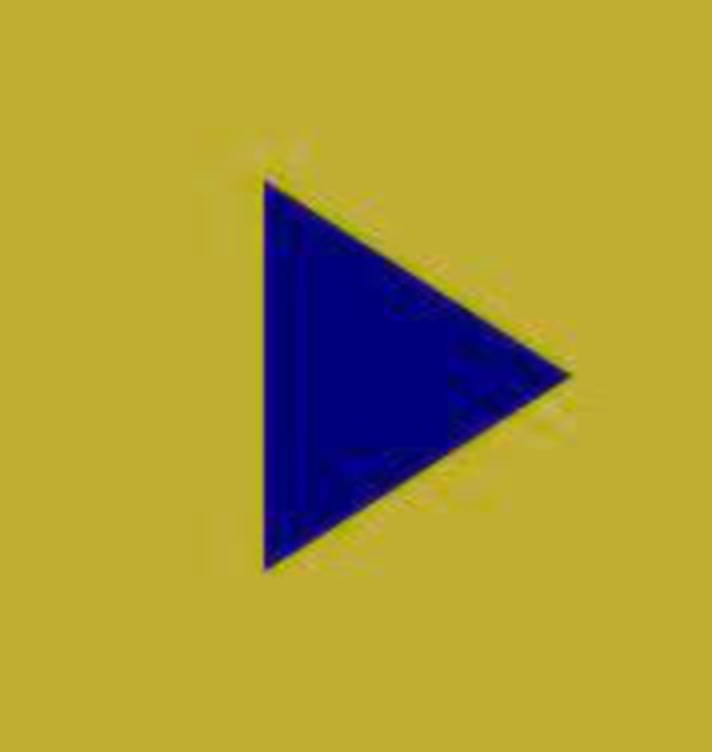ImgButton: (1, 1, 711, 751)
